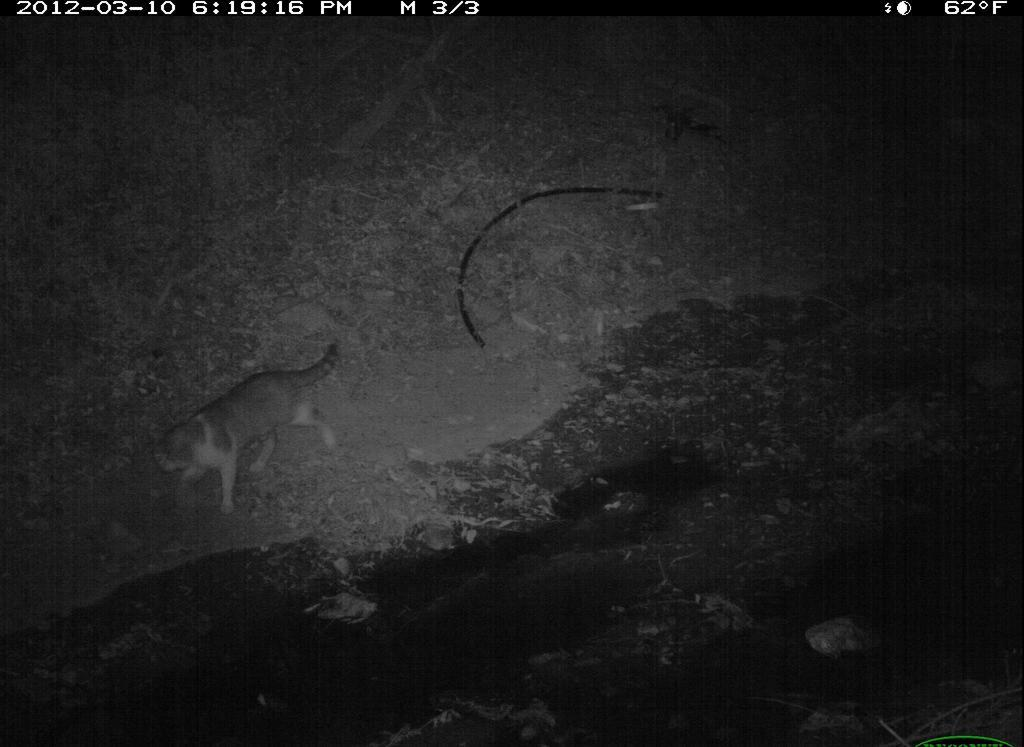cat: (141, 338, 355, 524)
